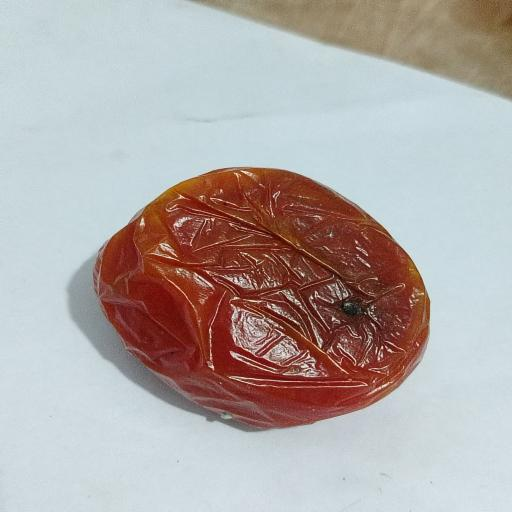spoiled: (95, 168, 429, 428)
